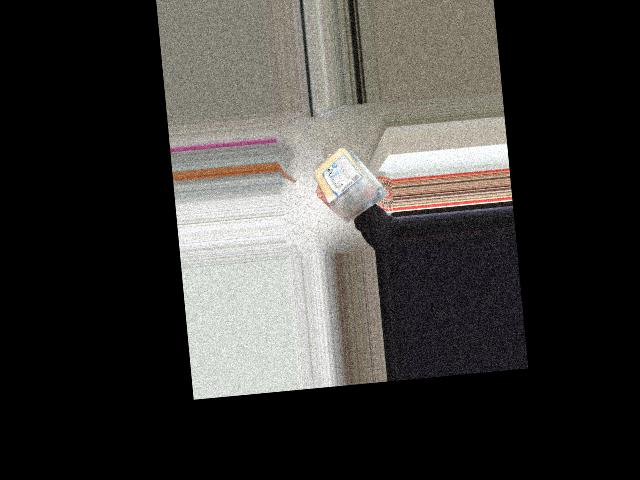cheese: (318, 144, 360, 213)
